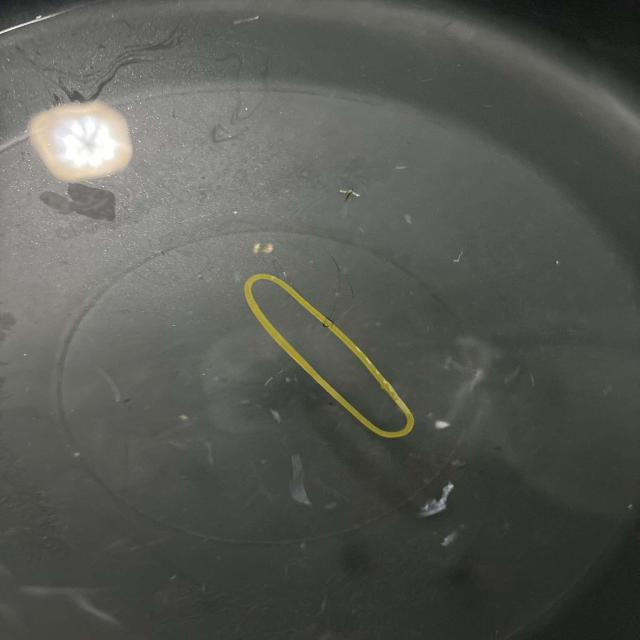Rubberband: (243, 274, 414, 439)
